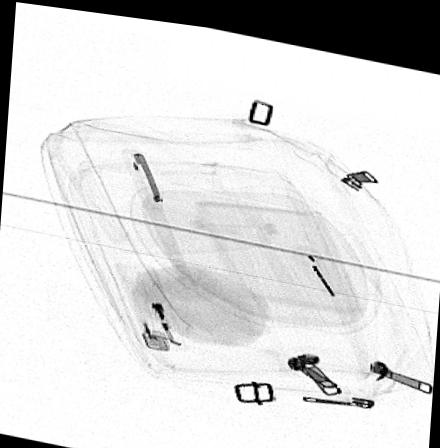Lighter: (116, 260, 185, 346)
